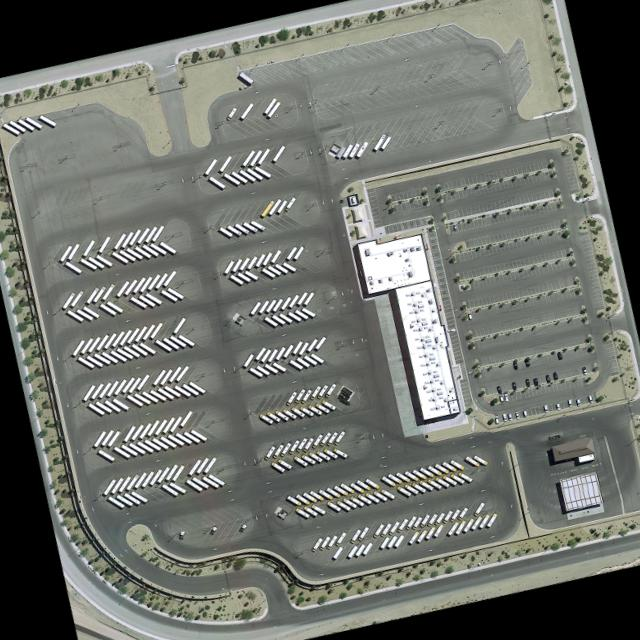large-vehicle: (170, 315, 185, 334), (172, 430, 192, 444), (84, 285, 99, 303), (86, 334, 101, 352), (165, 284, 183, 299), (186, 457, 201, 475), (221, 171, 240, 185), (80, 304, 99, 318), (97, 301, 116, 315), (99, 349, 118, 363), (91, 351, 110, 365), (83, 353, 102, 367), (114, 345, 133, 359), (183, 477, 202, 491), (175, 332, 194, 346), (167, 333, 186, 347), (160, 335, 179, 349), (186, 379, 205, 393), (162, 383, 181, 397), (155, 385, 174, 399), (270, 144, 285, 161), (161, 269, 176, 286), (145, 272, 160, 289), (131, 275, 146, 292), (100, 282, 115, 299), (266, 100, 281, 117), (148, 321, 163, 338), (124, 325, 139, 342), (142, 225, 157, 242), (147, 467, 162, 484), (354, 139, 369, 156), (158, 367, 173, 384), (111, 396, 128, 411), (167, 415, 182, 432), (267, 197, 281, 215), (237, 167, 255, 181), (229, 169, 247, 183), (207, 175, 225, 189), (256, 146, 270, 164), (117, 327, 131, 345), (158, 288, 176, 302), (124, 245, 142, 259), (135, 225, 149, 243), (7, 118, 25, 132), (108, 347, 126, 361), (132, 470, 146, 488), (181, 429, 199, 443), (158, 434, 176, 448), (239, 101, 253, 119), (202, 455, 216, 473), (104, 378, 118, 396), (137, 340, 155, 354), (124, 392, 142, 406), (152, 417, 166, 435), (145, 418, 159, 436), (129, 422, 143, 440), (91, 429, 105, 447), (172, 383, 190, 397), (128, 295, 147, 308), (110, 250, 129, 263), (37, 113, 56, 126), (23, 115, 42, 128), (128, 489, 147, 502), (132, 391, 151, 404), (147, 388, 166, 401), (259, 199, 273, 216), (245, 165, 262, 179), (248, 148, 262, 165), (240, 148, 254, 165), (203, 157, 217, 174), (153, 271, 167, 288), (122, 277, 136, 294), (114, 279, 128, 296), (69, 289, 83, 306), (60, 291, 74, 308), (133, 324, 147, 341), (110, 329, 124, 346), (102, 331, 116, 348), (94, 333, 108, 350), (78, 336, 92, 353), (70, 338, 84, 355), (150, 224, 164, 241), (124, 473, 138, 490), (106, 494, 123, 508), (117, 474, 131, 491), (109, 476, 123, 493), (155, 465, 169, 482), (170, 463, 184, 480), (262, 96, 276, 113), (236, 70, 253, 84), (371, 132, 385, 149), (194, 456, 208, 473), (94, 399, 111, 413), (174, 364, 188, 381), (151, 368, 165, 385), (120, 375, 134, 392), (112, 377, 126, 394), (97, 380, 111, 397), (89, 381, 103, 398), (81, 383, 95, 400), (103, 399, 120, 413), (106, 429, 120, 446), (121, 424, 135, 441), (140, 389, 157, 403), (252, 164, 270, 177), (104, 299, 122, 312), (74, 307, 92, 320), (65, 308, 83, 321), (157, 240, 175, 253), (148, 241, 166, 254), (140, 243, 158, 256), (137, 293, 155, 306), (75, 354, 93, 367), (143, 291, 161, 304), (94, 253, 112, 266), (86, 255, 104, 268), (63, 260, 81, 273), (97, 234, 110, 252), (16, 117, 34, 130), (119, 443, 137, 456), (140, 469, 153, 487), (114, 493, 132, 506), (189, 428, 207, 441), (165, 432, 183, 445), (150, 436, 168, 449), (142, 438, 160, 451), (164, 462, 177, 480), (206, 472, 224, 485), (200, 475, 218, 488), (190, 475, 208, 488), (167, 480, 185, 493), (127, 441, 145, 454), (112, 445, 130, 458), (129, 342, 147, 355), (86, 402, 104, 415), (153, 338, 171, 351), (138, 420, 151, 438), (180, 382, 198, 395), (101, 478, 115, 494), (99, 429, 113, 445), (91, 284, 104, 301), (133, 244, 150, 257), (141, 322, 154, 339), (112, 231, 125, 248), (120, 230, 133, 247), (81, 238, 94, 255), (66, 242, 79, 259), (122, 491, 139, 504), (160, 482, 177, 495), (96, 448, 113, 461), (167, 365, 180, 382), (135, 372, 148, 389), (127, 375, 140, 392), (179, 409, 192, 426), (117, 248, 135, 260), (78, 257, 96, 269), (1, 122, 19, 134), (135, 440, 153, 452), (282, 195, 296, 210), (218, 155, 231, 171), (286, 438, 299, 454), (386, 519, 399, 535), (403, 514, 416, 530), (138, 275, 151, 291), (58, 245, 71, 261), (122, 344, 138, 357), (346, 141, 359, 157), (161, 416, 174, 432), (484, 511, 497, 527), (128, 227, 140, 244), (262, 444, 275, 459), (291, 244, 304, 259), (309, 433, 322, 448), (324, 430, 337, 445), (371, 522, 384, 537), (333, 530, 346, 545), (324, 533, 337, 548), (309, 536, 322, 551), (395, 517, 408, 532), (348, 480, 363, 493), (301, 436, 313, 452), (248, 218, 264, 230), (225, 223, 241, 235), (295, 289, 307, 305), (348, 527, 360, 543), (332, 429, 344, 445), (354, 477, 370, 489), (338, 481, 354, 493), (331, 483, 347, 495), (331, 446, 347, 458), (314, 448, 330, 460), (293, 506, 309, 518), (340, 142, 352, 158), (476, 513, 489, 527), (284, 390, 296, 405), (294, 436, 306, 451), (278, 441, 290, 456), (273, 408, 288, 420), (323, 382, 335, 397), (315, 383, 327, 398), (308, 384, 320, 399), (299, 388, 311, 403), (302, 290, 314, 305), (241, 220, 256, 232), (287, 292, 299, 307), (263, 297, 275, 312), (257, 298, 269, 313), (318, 431, 330, 446), (379, 522, 391, 537), (356, 525, 368, 540), (433, 475, 448, 487), (469, 514, 481, 529), (453, 519, 465, 534), (472, 500, 484, 515), (317, 487, 332, 499), (301, 490, 316, 502), (294, 492, 309, 504), (292, 454, 307, 466), (302, 504, 317, 516), (403, 468, 418, 480), (325, 499, 340, 511), (380, 474, 395, 486), (355, 492, 370, 504), (225, 105, 237, 120), (299, 306, 315, 317), (271, 442, 282, 458), (306, 403, 322, 414), (265, 264, 281, 275), (448, 472, 464, 483), (363, 477, 379, 488), (324, 486, 340, 497), (440, 460, 456, 471), (313, 335, 325, 349), (305, 337, 317, 351), (290, 339, 302, 353), (273, 345, 285, 359), (241, 352, 253, 366), (314, 401, 328, 413), (275, 198, 287, 212), (230, 257, 242, 271), (245, 254, 257, 268), (270, 297, 282, 311), (248, 300, 260, 314), (285, 245, 297, 259), (269, 248, 281, 262), (423, 525, 435, 539), (392, 533, 404, 547), (417, 512, 429, 526), (432, 510, 444, 524), (379, 135, 391, 149), (309, 352, 324, 363), (302, 353, 317, 364), (293, 387, 304, 402), (281, 408, 296, 419), (265, 410, 280, 421), (257, 412, 272, 423), (270, 313, 285, 324), (233, 222, 248, 233), (273, 262, 288, 273), (281, 260, 296, 271), (260, 266, 275, 277), (228, 273, 243, 284), (402, 482, 417, 493), (318, 534, 329, 549), (456, 470, 471, 481), (441, 473, 456, 484), (462, 516, 473, 531), (410, 481, 425, 492), (395, 484, 410, 495), (472, 454, 487, 465), (308, 489, 323, 500), (285, 494, 300, 505), (299, 452, 314, 463), (276, 457, 291, 468), (269, 460, 284, 471), (394, 470, 409, 481), (463, 455, 478, 466), (448, 458, 463, 469), (433, 462, 448, 473), (426, 464, 441, 475), (418, 465, 433, 476), (386, 472, 401, 483), (379, 487, 394, 498), (371, 489, 386, 500), (363, 491, 378, 502), (348, 495, 363, 506), (341, 496, 356, 507), (292, 308, 308, 318), (309, 503, 325, 513), (410, 468, 426, 478), (334, 500, 350, 510), (258, 348, 270, 361), (253, 346, 265, 359), (455, 506, 467, 519), (254, 363, 268, 374), (248, 365, 262, 376), (266, 347, 277, 361), (286, 310, 300, 321), (320, 398, 334, 409), (290, 405, 304, 416), (277, 311, 291, 322), (263, 315, 277, 326), (222, 259, 233, 273), (238, 256, 249, 270), (279, 295, 290, 309), (254, 252, 265, 266), (260, 251, 271, 265), (346, 543, 357, 557), (426, 477, 440, 488), (410, 515, 421, 529), (446, 520, 457, 534), (425, 511, 436, 525), (322, 447, 336, 458), (298, 405, 313, 415), (417, 479, 432, 489), (295, 355, 308, 366), (361, 541, 372, 554), (353, 542, 364, 555), (331, 545, 342, 558), (407, 530, 418, 543), (415, 528, 426, 541), (385, 534, 396, 547), (378, 535, 389, 548), (448, 508, 459, 521), (441, 509, 452, 522), (271, 361, 285, 371), (263, 362, 277, 372), (297, 340, 307, 354), (282, 343, 292, 357), (217, 226, 231, 236), (243, 269, 257, 279), (235, 271, 249, 281), (307, 451, 321, 461), (288, 358, 301, 368), (432, 523, 442, 536), (335, 145, 345, 157), (502, 392, 507, 401)
small-vehicle: (509, 381, 516, 390), (494, 384, 501, 393), (555, 350, 562, 358), (551, 370, 557, 379), (543, 373, 549, 382), (531, 376, 537, 385), (523, 377, 529, 386), (586, 393, 592, 402), (521, 409, 527, 417), (506, 412, 512, 420), (574, 397, 580, 405), (581, 365, 586, 374), (466, 310, 471, 319), (523, 358, 528, 366), (511, 360, 516, 368), (542, 404, 547, 412), (513, 410, 518, 418), (501, 412, 506, 420), (493, 414, 498, 422), (497, 393, 502, 401), (451, 222, 456, 230), (446, 327, 454, 332), (566, 398, 571, 406), (555, 401, 559, 409)
